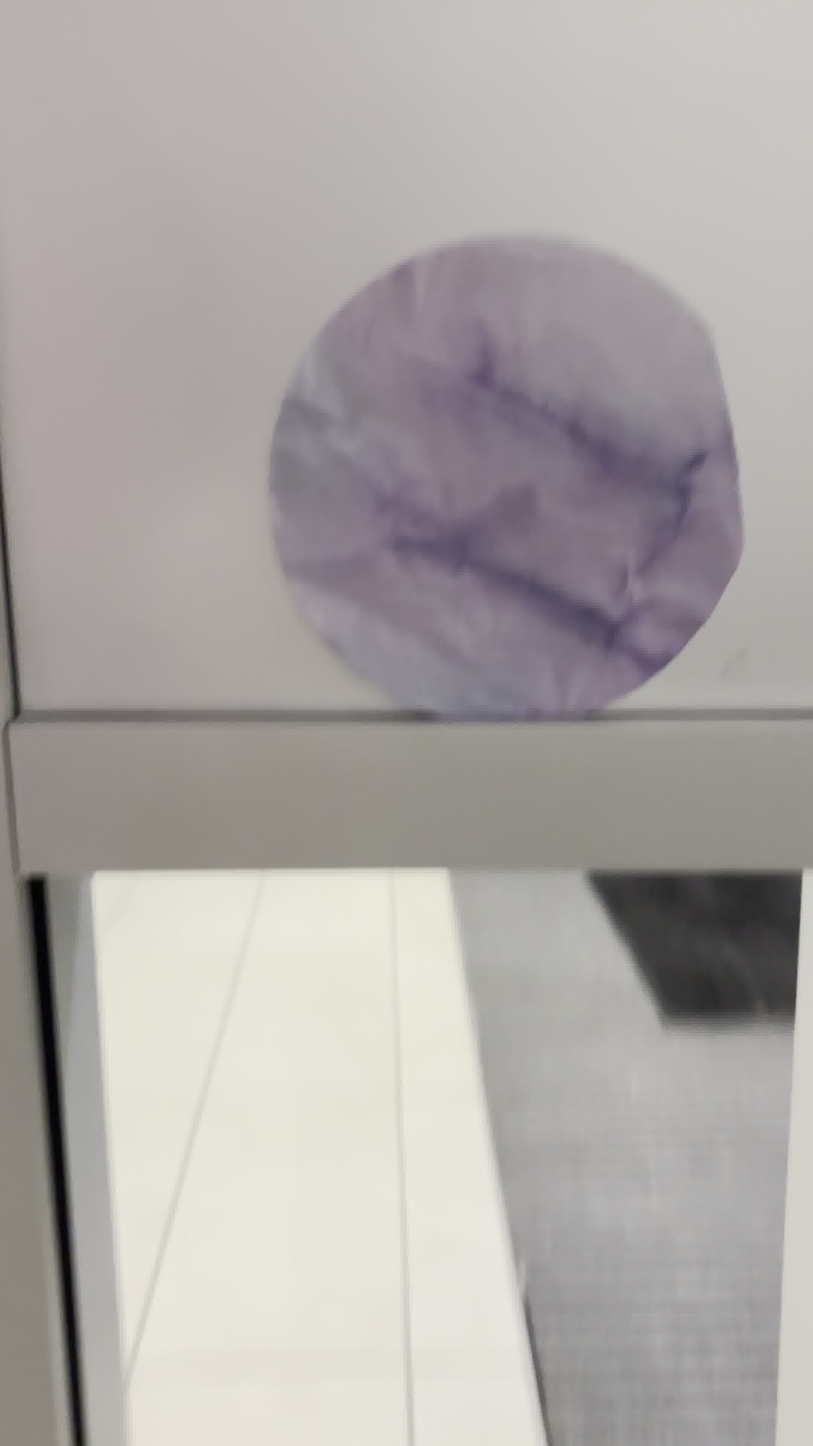Target: (243, 226, 765, 731)
